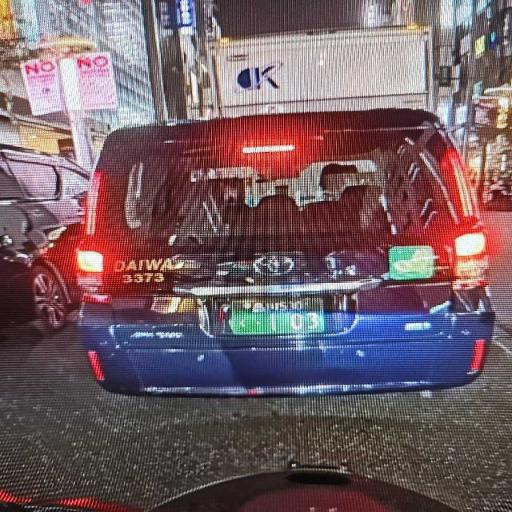car: (77, 110, 494, 394), (0, 146, 90, 331)
lane: (0, 328, 511, 510)
truck: (209, 26, 435, 117)
